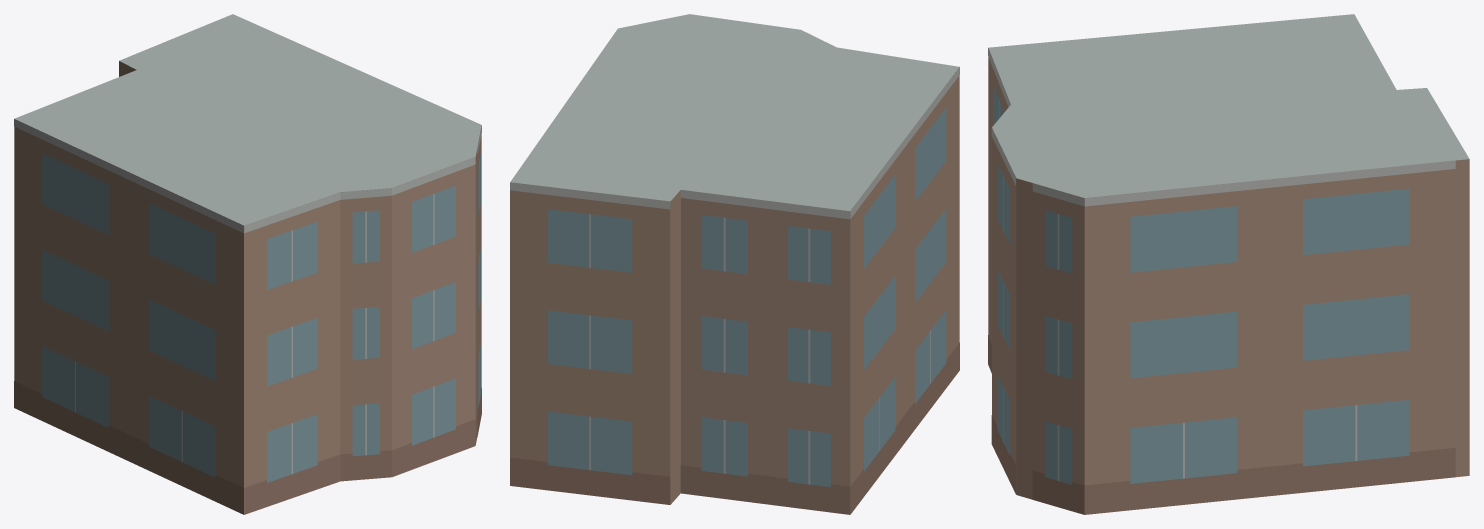
Rendered from survey-upis-32606045.glb.
3 views of the same model, side by side, from view 1: azimuth 30°, elevation 25°; view 2: azimuth 150°, elevation 25°; view 3: azimuth 270°, elevation 25° (orthographic). The views are drawn at different scales.
Visible parts, largest first — view 1: survey-upis-32606045.tmp; view 2: survey-upis-32606045.tmp; view 3: survey-upis-32606045.tmp.
Boxes of the visible parts, x1,y1,x2,y2 form: survey-upis-32606045.tmp: (14, 14, 481, 514); survey-upis-32606045.tmp: (510, 14, 959, 514); survey-upis-32606045.tmp: (988, 14, 1469, 514).
Size of the model in its own units: 11.42 by 9.15 by 12.61.
